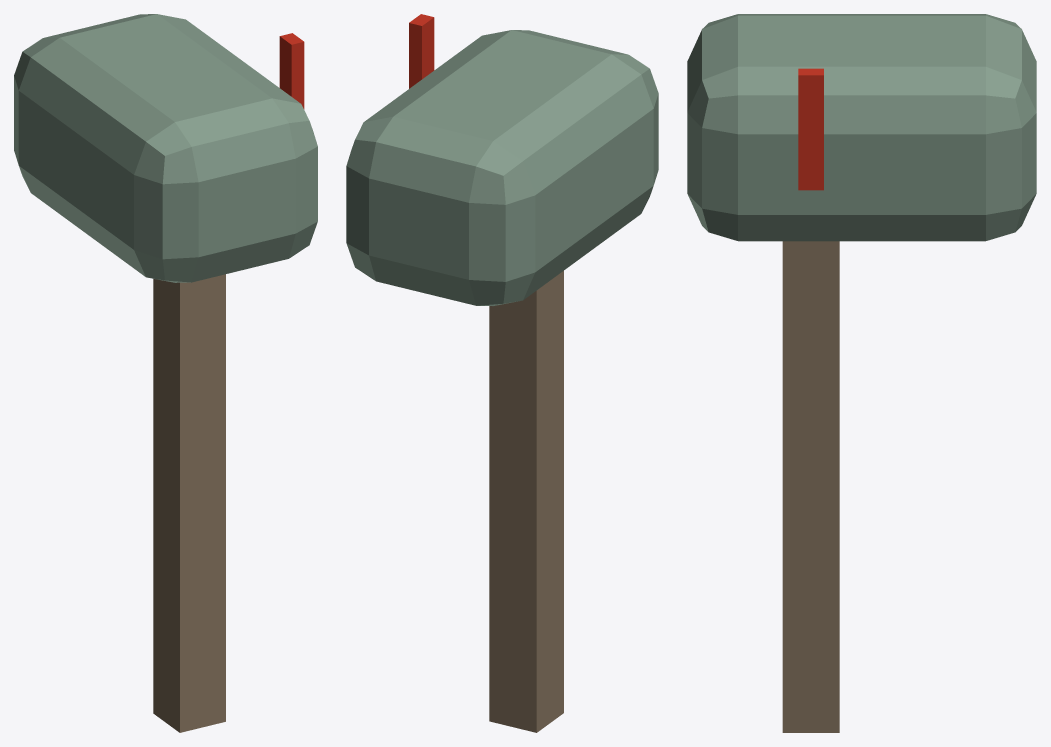
The model's file is mailbox.glb.
The picture shows the model from 3 angles, left to right: view 1: azimuth 30°, elevation 25°; view 2: azimuth 150°, elevation 25°; view 3: azimuth 270°, elevation 25°; orthographic projection. The views are drawn at different scales.
Visible parts, largest first — view 1: sage, wood, tail; view 2: sage, wood, tail; view 3: sage, wood, tail.
Part boxes in pixels (x1,y1,x2,y2): sage: [14, 14, 317, 282]; wood: [153, 274, 225, 732]; tail: [279, 33, 304, 109]; sage: [346, 30, 658, 305]; wood: [489, 271, 563, 732]; tail: [409, 14, 434, 88]; sage: [687, 14, 1036, 241]; wood: [782, 241, 839, 732]; tail: [798, 68, 823, 190].
Size of the model in its own units: 0.3875 by 1.22 by 0.55.
